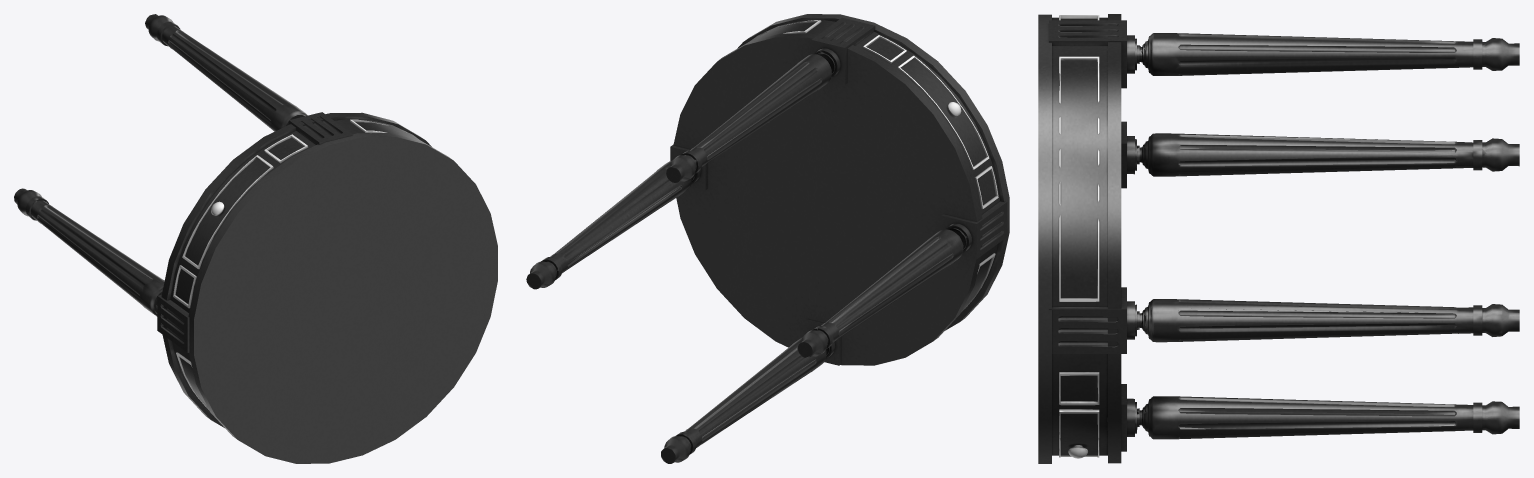
The picture shows the model from 3 angles, left to right: view 1: azimuth 30°, elevation 25°; view 2: azimuth 150°, elevation 25°; view 3: azimuth 270°, elevation 25°; orthographic projection. The views are drawn at different scales.
Bounding box in the file's own units: 0.6823 × 0.6808 × 0.7266.
